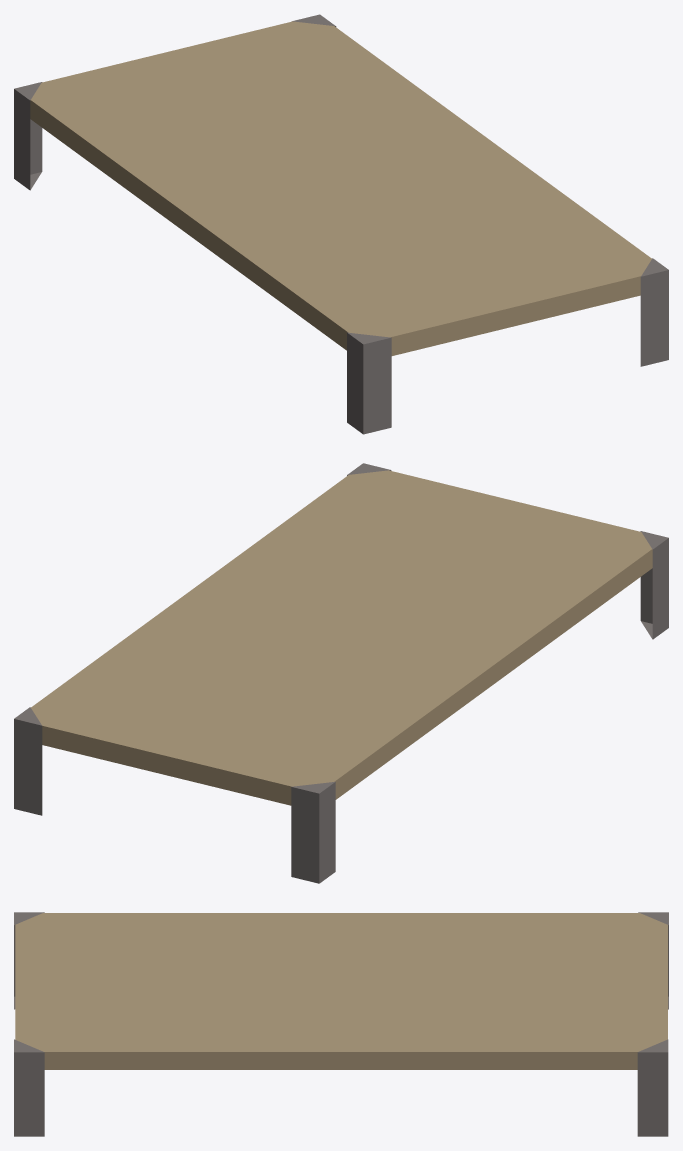
Rendered from SM_Bed_02.FBX.
The picture shows the model from 3 angles, top to bottom: view 1: azimuth 30°, elevation 25°; view 2: azimuth 150°, elevation 25°; view 3: azimuth 270°, elevation 25°; orthographic projection. The views are drawn at different scales.
Visible parts, largest first — view 1: SM_Bed_02; view 2: SM_Bed_02; view 3: SM_Bed_02.
Part boxes in pixels (bbox=[...]): SM_Bed_02: bbox=[14, 14, 668, 434]; SM_Bed_02: bbox=[14, 463, 668, 883]; SM_Bed_02: bbox=[14, 912, 668, 1136].
Size of the model in its own units: 132 by 261 by 37.07.
